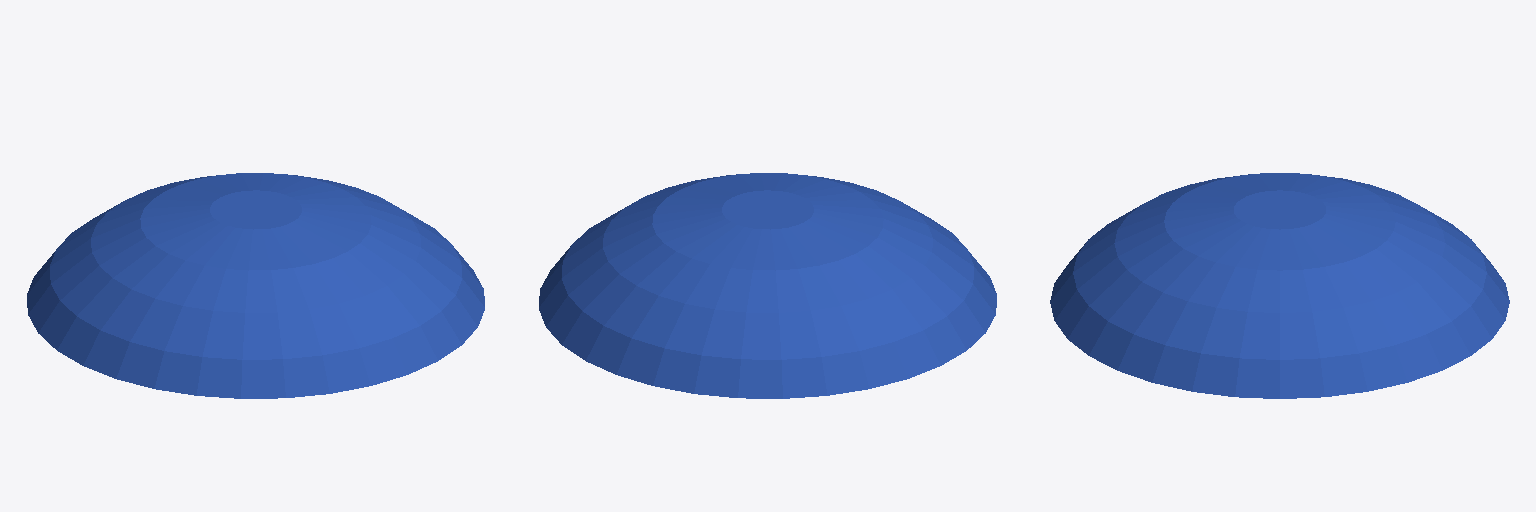
The model's file is meja4-2.obj.
The picture shows the model from 3 angles: view 1: azimuth 30°, elevation 25°; view 2: azimuth 150°, elevation 25°; view 3: azimuth 270°, elevation 25°; orthographic projection.
Visible parts, largest first — view 1: Cube.003_Cube.368_Cube.003_Cube.004; view 2: Cube.003_Cube.368_Cube.003_Cube.004; view 3: Cube.003_Cube.368_Cube.003_Cube.004.
Boxes of the visible parts, x1,y1,x2,y2 form: Cube.003_Cube.368_Cube.003_Cube.004: [27, 173, 484, 398]; Cube.003_Cube.368_Cube.003_Cube.004: [539, 173, 996, 398]; Cube.003_Cube.368_Cube.003_Cube.004: [1050, 173, 1509, 398].
Bounding box in the file's own units: 0.7724 × 0.1706 × 0.7724.